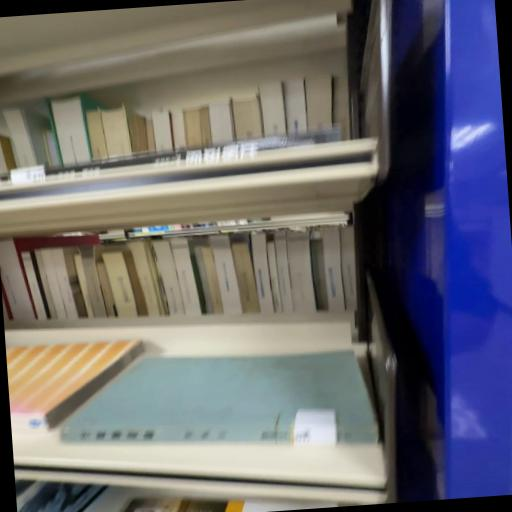flat: (61, 351, 378, 446)
